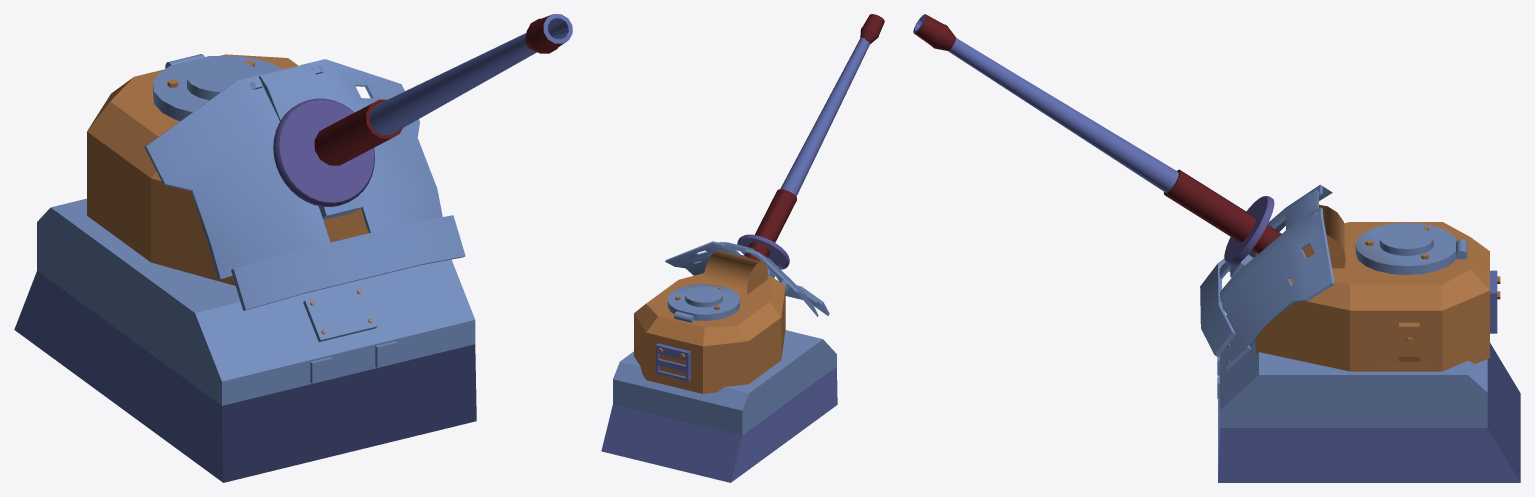
The model's file is Cannon-S-1.fbx.
3 renders of one model, left to right at view 1: azimuth 30°, elevation 25°; view 2: azimuth 150°, elevation 25°; view 3: azimuth 270°, elevation 25°, orthographic. The views are drawn at different scales.
Parts seen in each view (by area): view 1: polySurface268, polySurface249; view 2: polySurface268, polySurface249; view 3: polySurface268, polySurface249.
Part boxes in pixels (<box>): polySurface268: <box>14,54,476,482</box>; polySurface249: <box>273,14,572,206</box>; polySurface268: <box>601,241,837,482</box>; polySurface249: <box>737,14,884,269</box>; polySurface268: <box>1200,184,1520,482</box>; polySurface249: <box>913,14,1281,266</box>.
Bounding box in the file's own units: 2.77 × 5.99 × 7.79.
